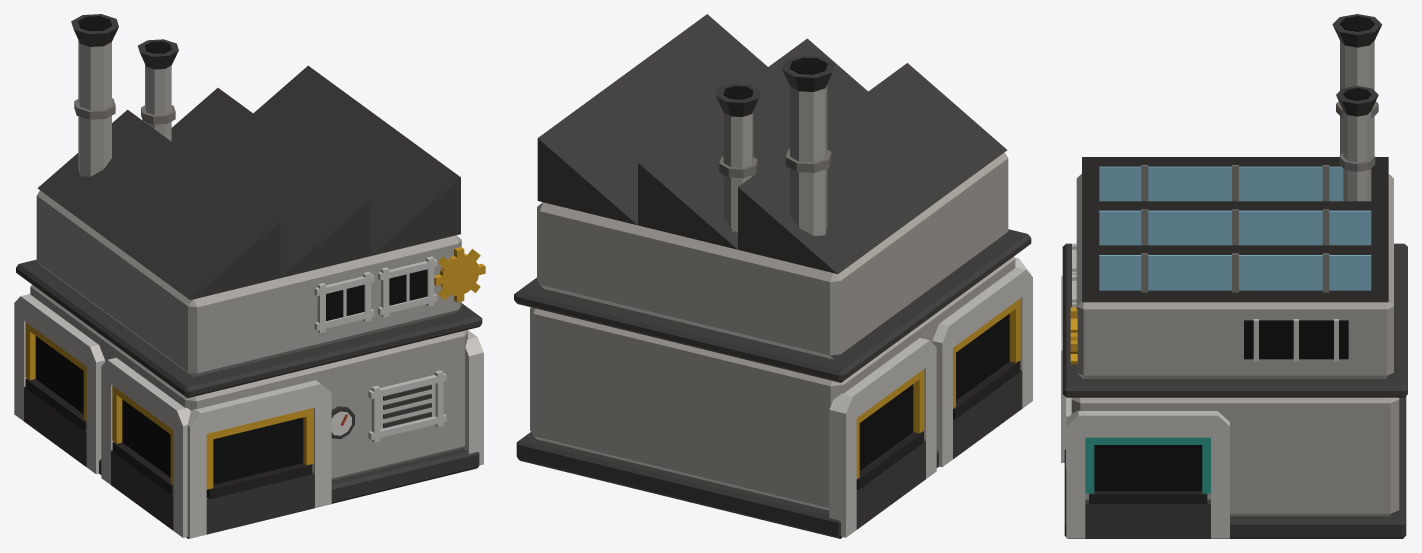
Rendered from manufacturer.fbx.
3 renders of one model, left to right at view 1: azimuth 30°, elevation 25°; view 2: azimuth 150°, elevation 25°; view 3: azimuth 270°, elevation 25°, orthographic. The views are drawn at different scales.
Parts seen in each view (by area): view 1: manufacturer; view 2: manufacturer; view 3: manufacturer.
Boxes of the visible parts, bbox=[...] form: manufacturer: bbox=[14, 14, 485, 538]; manufacturer: bbox=[514, 14, 1032, 538]; manufacturer: bbox=[1061, 14, 1407, 538].
Size of the model in its own units: 6.07 by 7.58 by 5.97.
